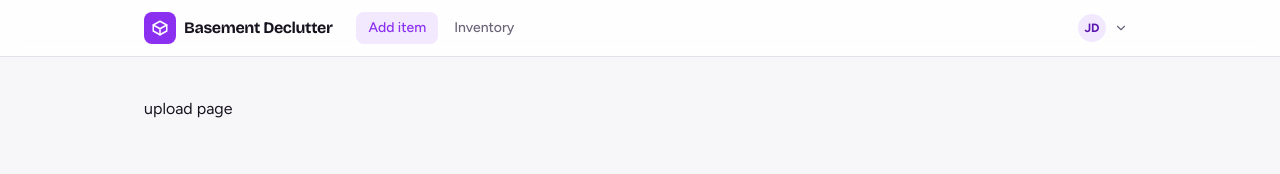
Scenario: AppLayout › shows initials on a closed account menu, then email and Sign out once opened
The image size is (1280, 174).
Expected: the text "JD" is shown, x1=1078 y1=14 x2=1106 y2=42
What coordinates should you click on to do the following:
click the button with aria-label "Account menu"
I would click on:
 (1105, 28)
Its box is x1=1074 y1=10 x2=1136 y2=46.
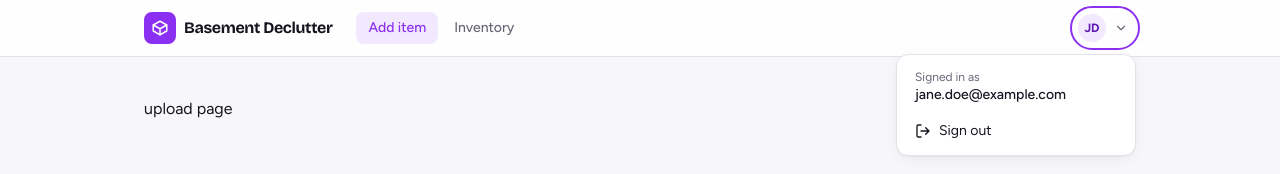
Expected: the menu shows "Signed in as jane.doe@example.com", x1=896 y1=54 x2=1136 y2=156
Expected: the text "jane.doe@example.com" is shown, x1=915 y1=86 x2=1066 y2=103
Expected: the menu item "Sign out" is shown, x1=903 y1=113 x2=1129 y2=149
